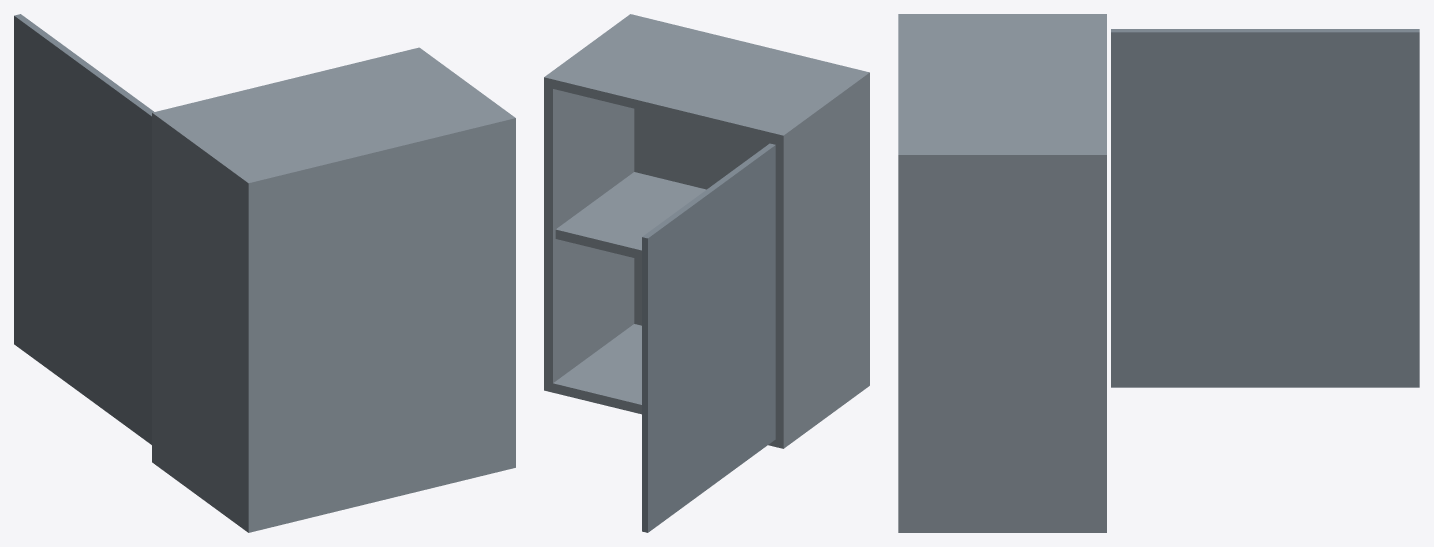
The model's file is Тумбочка.fbx.
The picture shows the model from 3 angles, left to right: view 1: azimuth 30°, elevation 25°; view 2: azimuth 150°, elevation 25°; view 3: azimuth 270°, elevation 25°; orthographic projection. The views are drawn at different scales.
Visible parts, largest first — view 1: Back, Door, Side_L, Top, Side_R, Bottom; view 2: Door, Side_L, Top, Side_R, Back, Shelf, Bottom; view 3: Door, Side_R, Top, Back, Bottom.
Part boxes in pixels (bbox=[...]): Back: bbox=[242, 121, 515, 532]; Door: bbox=[14, 14, 153, 444]; Side_L: bbox=[152, 110, 258, 532]; Top: bbox=[152, 47, 515, 193]; Side_R: bbox=[440, 64, 515, 469]; Bottom: bbox=[152, 452, 248, 532]; Door: bbox=[642, 143, 775, 532]; Side_L: bbox=[774, 72, 869, 439]; Top: bbox=[544, 14, 869, 143]; Side_R: bbox=[544, 14, 637, 383]; Back: bbox=[634, 73, 869, 388]; Shelf: bbox=[555, 172, 706, 259]; Bottom: bbox=[544, 324, 851, 448]; Door: bbox=[1111, 29, 1419, 387]; Side_R: bbox=[898, 149, 1106, 521]; Top: bbox=[898, 14, 1106, 166]; Back: bbox=[898, 155, 910, 532]; Bottom: bbox=[911, 521, 1106, 532].
Size of the model in its own units: 0.8 by 1 by 1.25.
